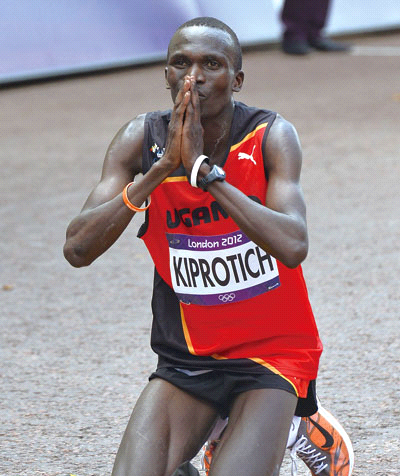face: (170, 30, 231, 117)
